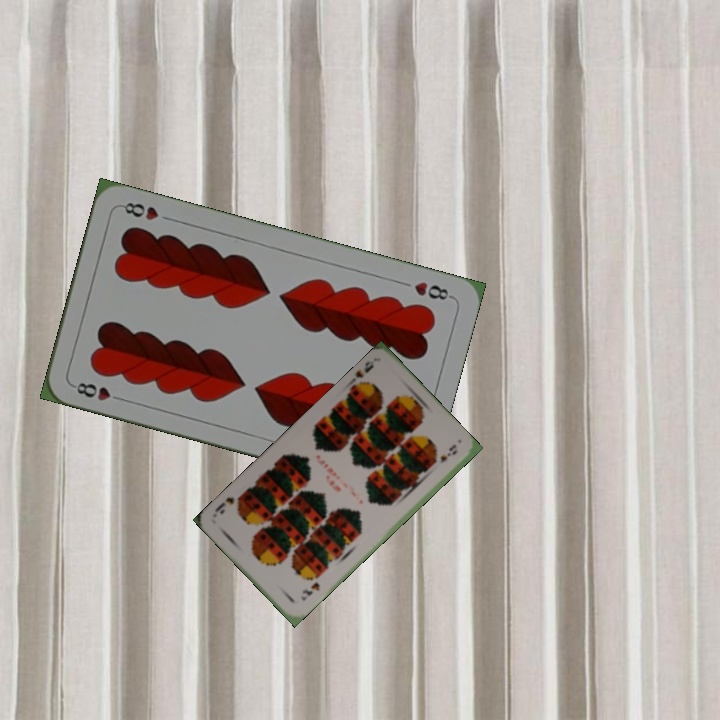H8: (68, 378, 127, 404), (410, 277, 455, 303)
S9: (344, 357, 377, 389), (297, 578, 322, 603)
